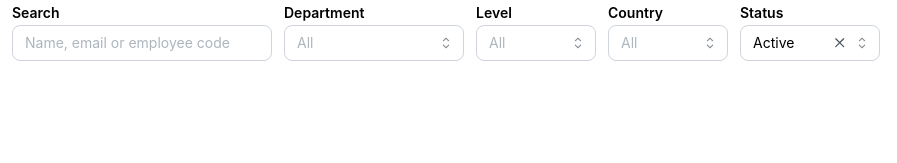
Test: DirectoryFilters › offers only the countries employees are actually in
Click the dropdown labelled "Country".
click(668, 43)  # box x1=608 y1=25 x2=728 y2=61
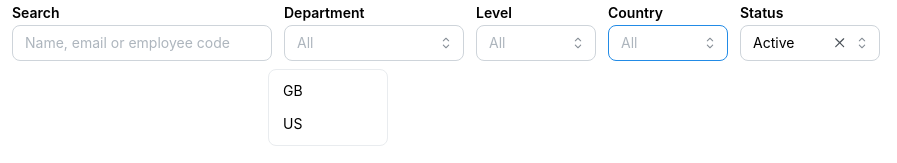
Now the option "GB" is shown, box x1=283 y1=82 x2=303 y2=99
Now the option "US" is shown, box x1=283 y1=116 x2=302 y2=132
